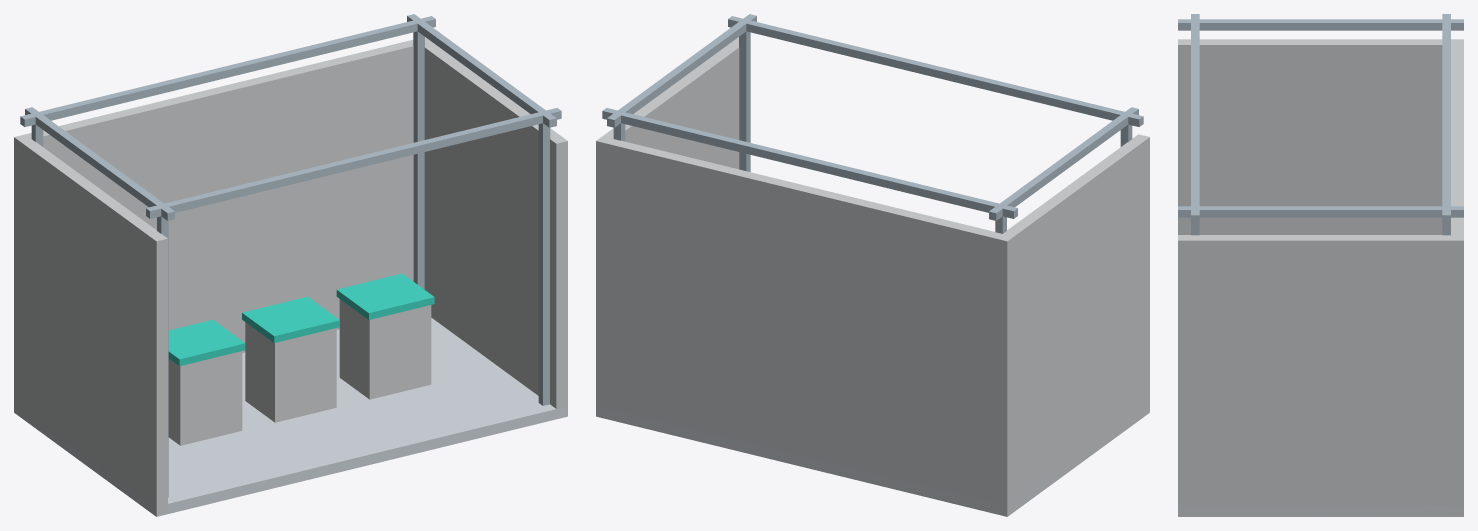
The picture shows the model from 3 angles, left to right: view 1: azimuth 30°, elevation 25°; view 2: azimuth 150°, elevation 25°; view 3: azimuth 270°, elevation 25°; orthographic projection.
Visible parts, largest first — view 1: Exhibition Booth Concept; view 2: Exhibition Booth Concept; view 3: Exhibition Booth Concept.
Part boxes in pixels (x1,y1,x2,y2): Exhibition Booth Concept: [14, 14, 567, 516]; Exhibition Booth Concept: [596, 14, 1149, 516]; Exhibition Booth Concept: [1178, 14, 1463, 516].
Bounding box in the file's own units: 5 × 3.49 × 3.
